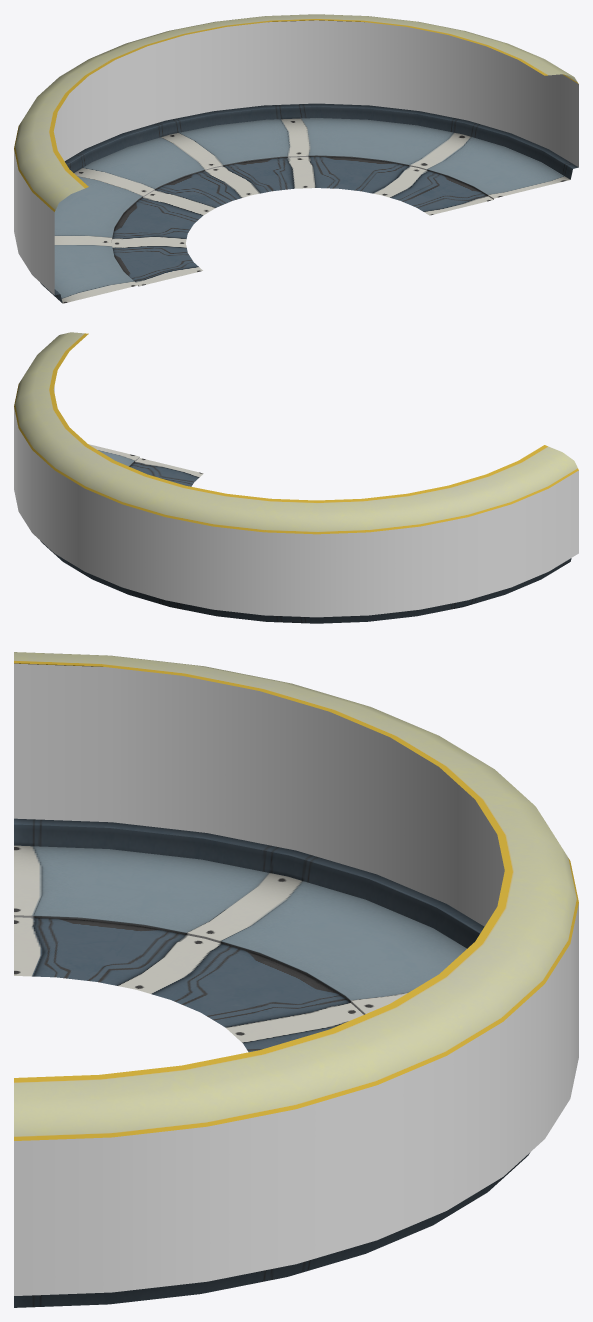
3 views of the same model, one above another, from view 1: azimuth 30°, elevation 25°; view 2: azimuth 150°, elevation 25°; view 3: azimuth 270°, elevation 25° (orthographic). The views are drawn at different scales.
Visible parts, largest first — view 1: 바닥; view 2: 바닥; view 3: 바닥.
Boxes of the visible parts, x1,y1,x2,y2 form: 바닥: (14, 14, 578, 303); 바닥: (14, 332, 578, 623); 바닥: (14, 652, 578, 1307).
Size of the model in its own units: 1710 by 348 by 855.
2 materials, 1 textured.
